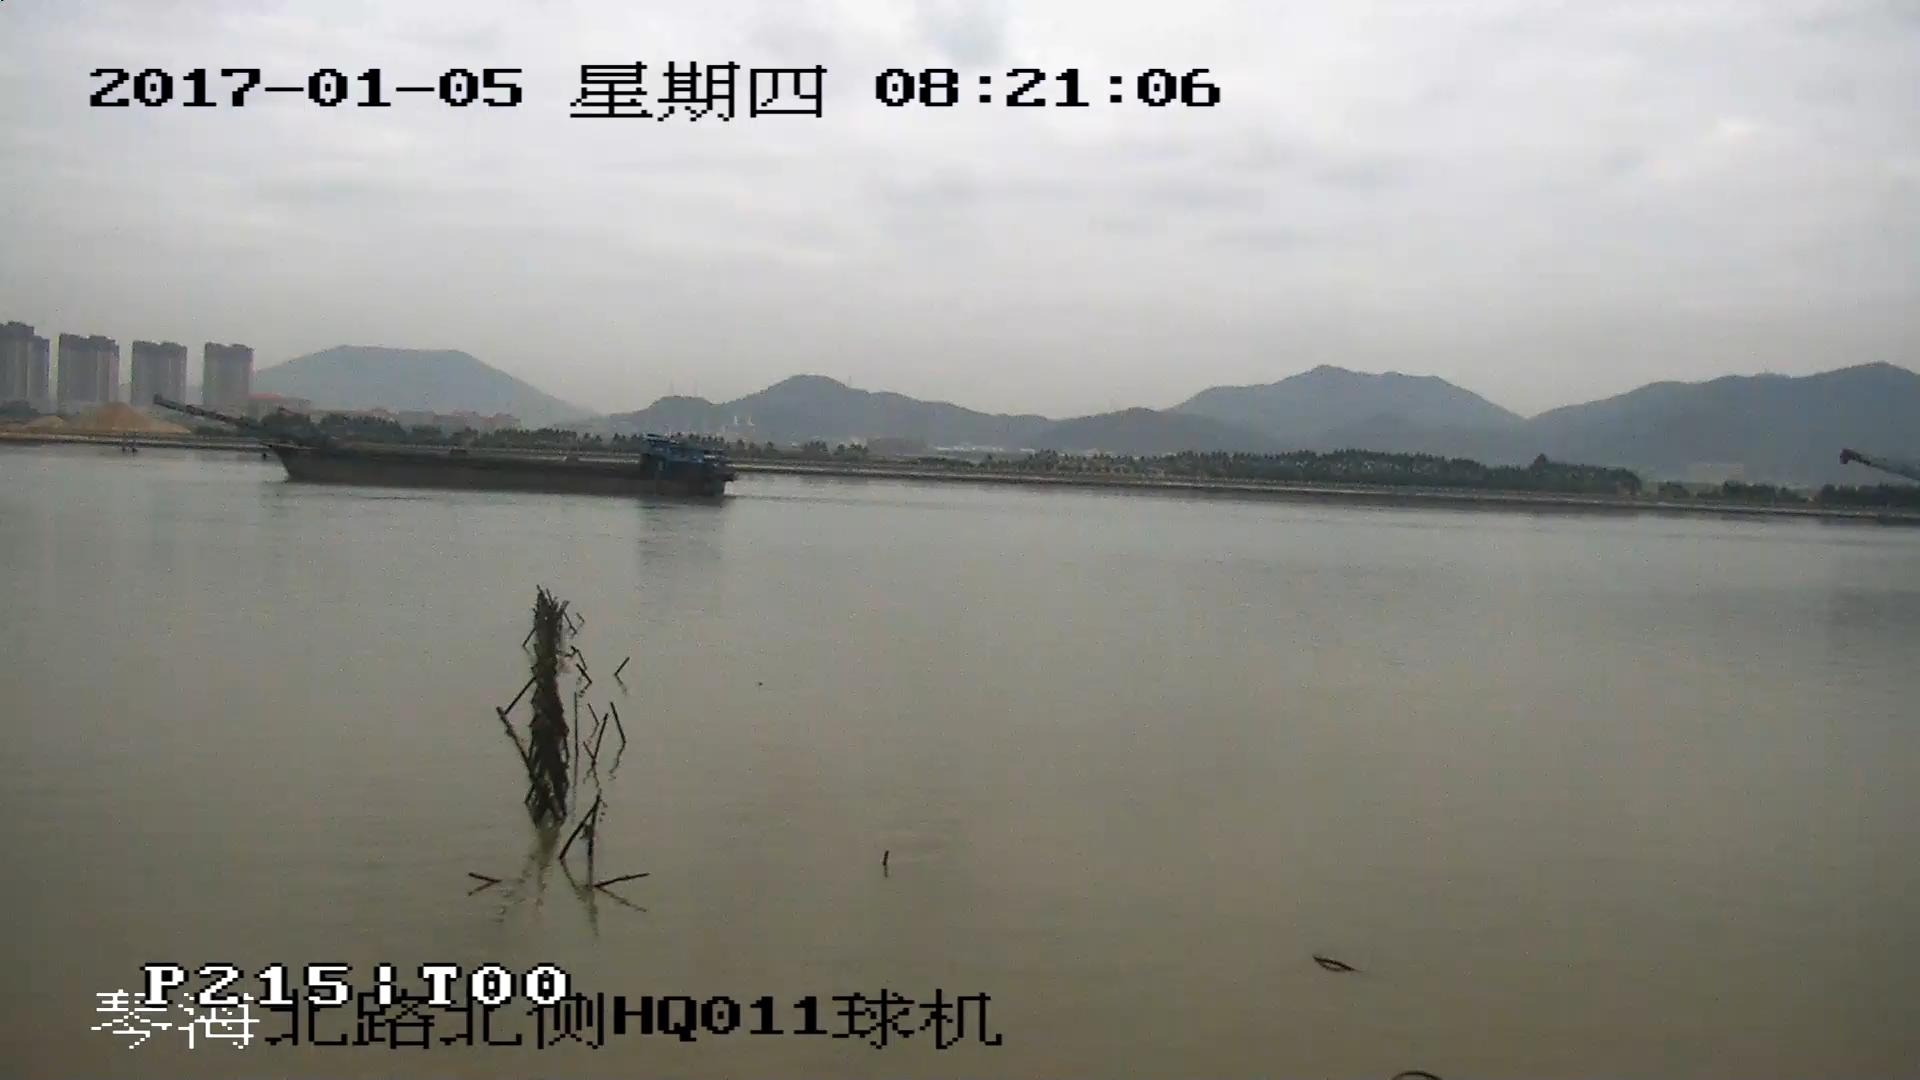bulk cargo carrier: (157, 398, 732, 499)
